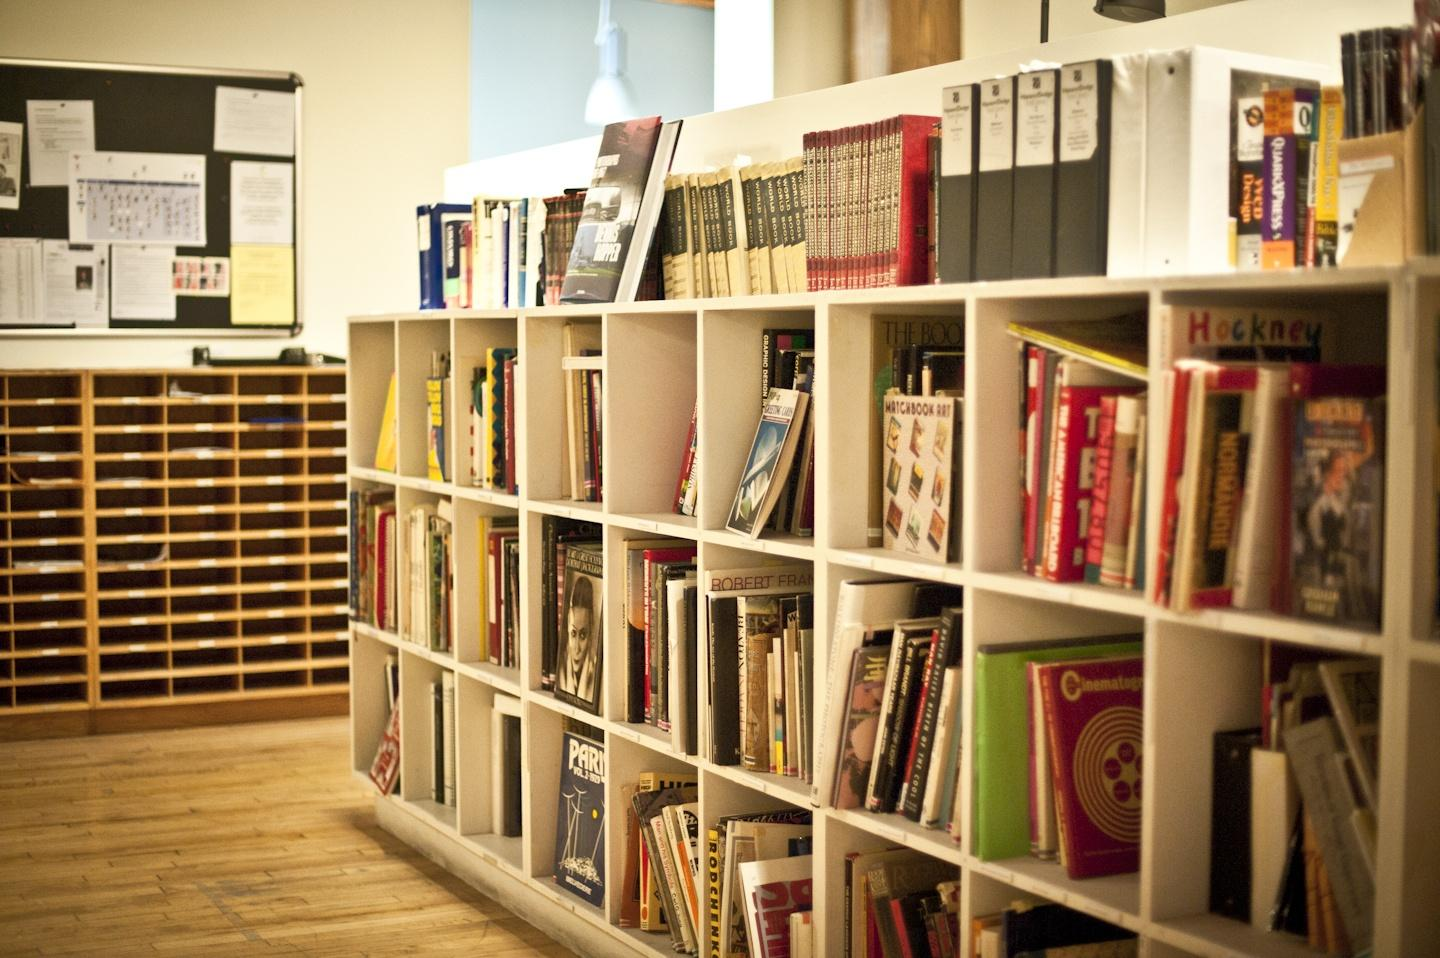Rak: (343, 254, 1437, 957)
